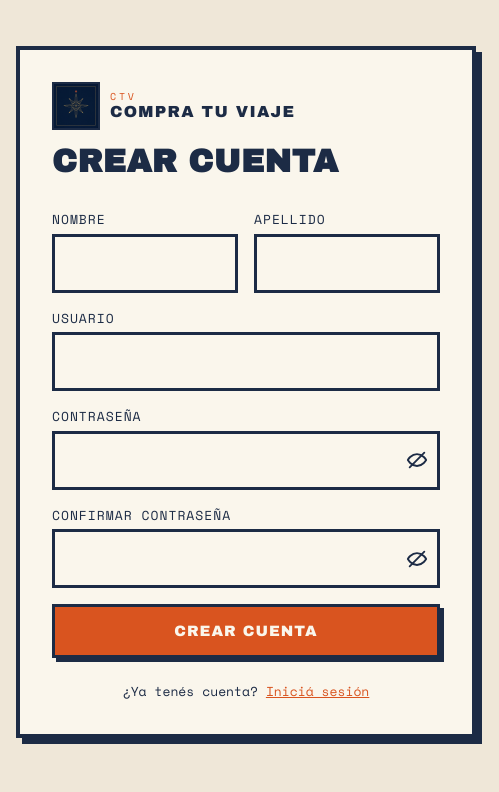
Register page › 10 - shows a generic connection error message for non-HTTP failures
Type "Juan" into the field labelled "Nombre".
click(145, 263); type("Juan")  # box x1=52 y1=234 x2=238 y2=293
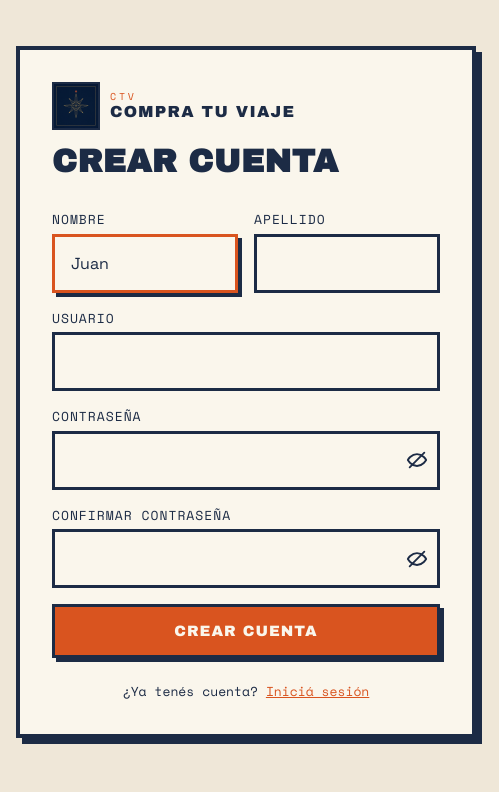
Type "Perez" into the field labelled "Apellido".
click(347, 263); type("Perez")  # box x1=254 y1=234 x2=440 y2=293
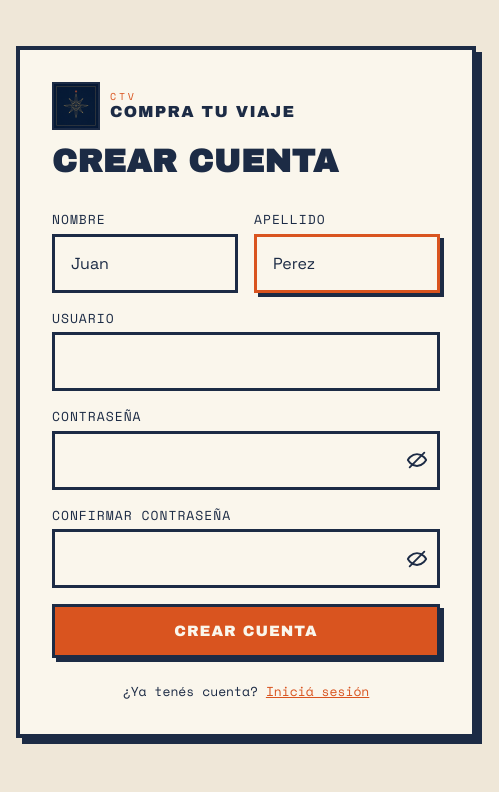
Type "juanperez" into the field labelled "Usuario".
click(246, 362); type("juanperez")  # box x1=52 y1=332 x2=440 y2=391
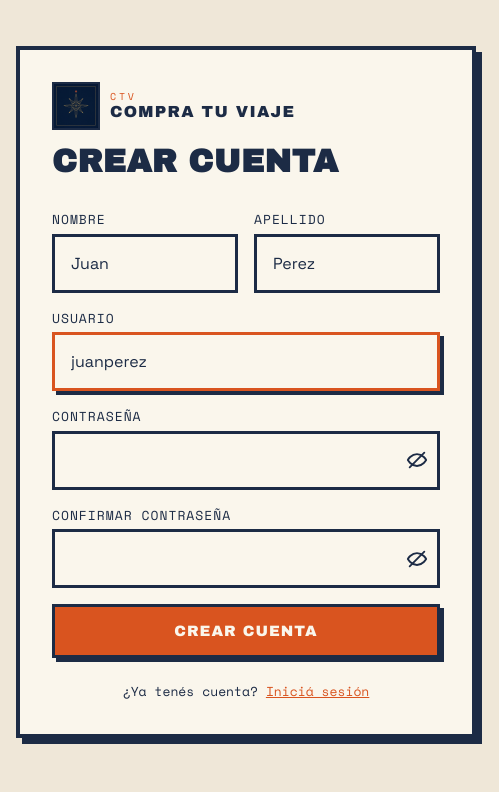
Type "secreto123" into the password field labelled "Contraseña".
click(246, 460); type("secreto123")  # box x1=52 y1=431 x2=440 y2=490
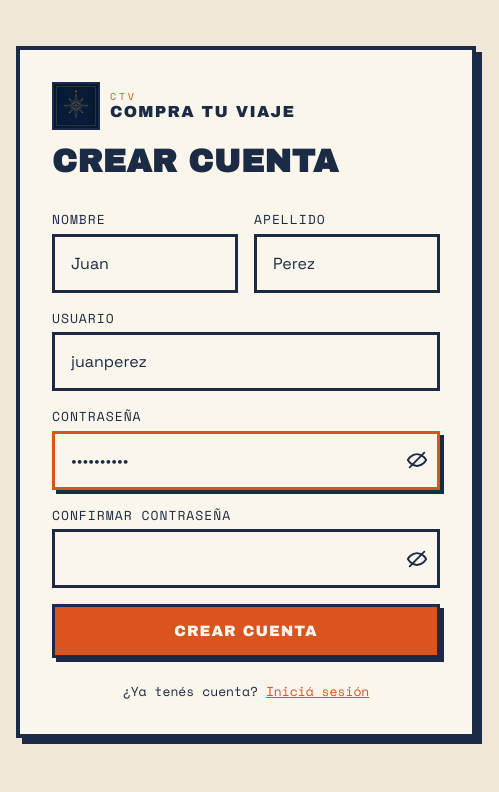
Type "secreto123" into the password field labelled "Confirmar contraseña".
click(246, 559); type("secreto123")  # box x1=52 y1=529 x2=440 y2=588
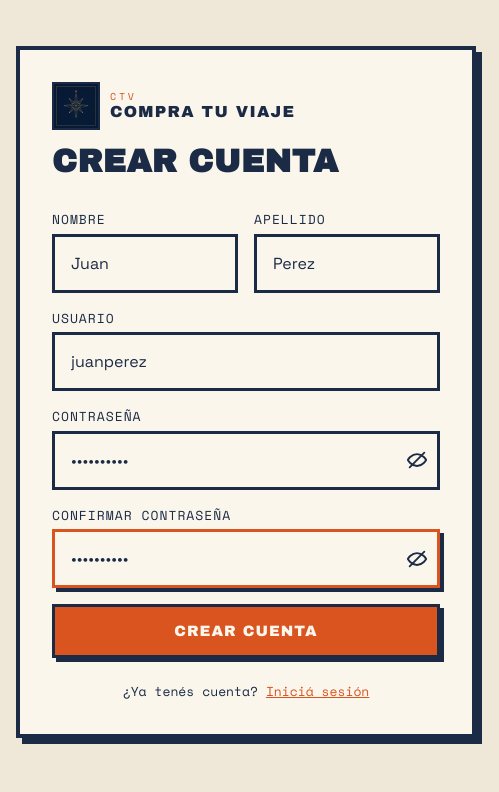
Click the button "Crear cuenta".
click(246, 631)  # box x1=52 y1=604 x2=440 y2=658
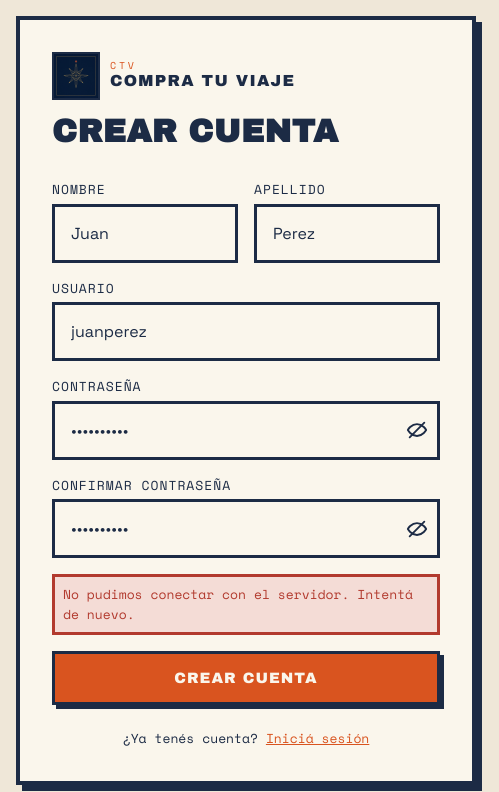
expect the text "No pudimos conectar con el servidor. Intentá de nuevo." is shown: met, box x1=52 y1=574 x2=440 y2=635
